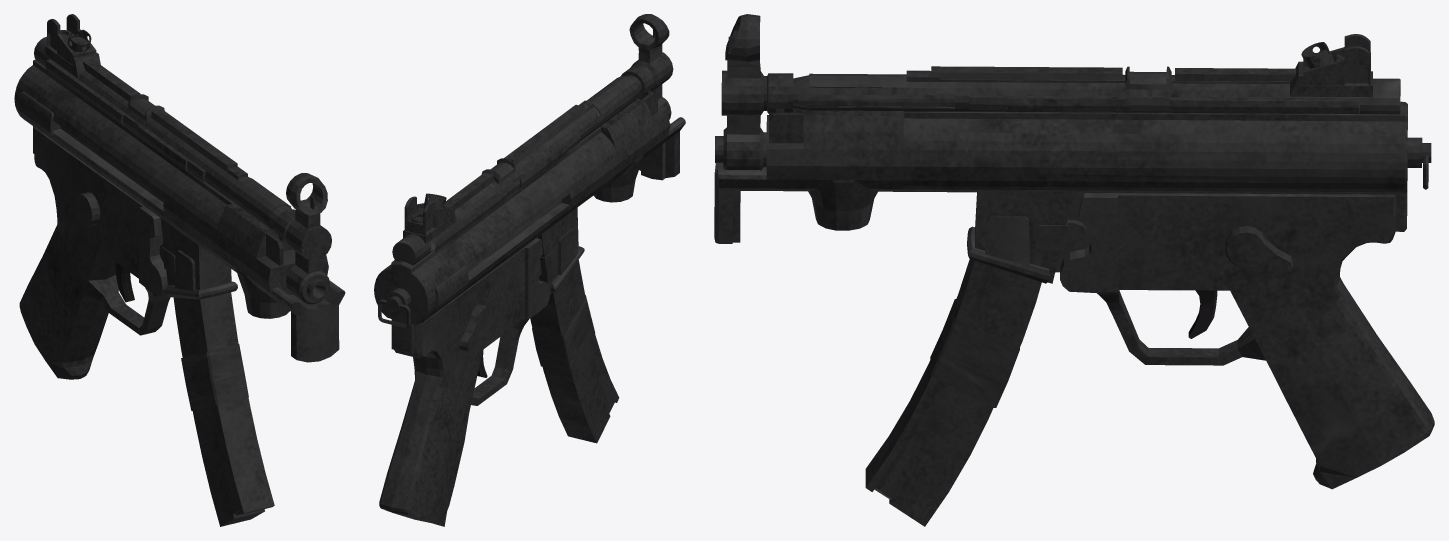
The picture shows the model from 3 angles, left to right: view 1: azimuth 30°, elevation 25°; view 2: azimuth 150°, elevation 25°; view 3: azimuth 270°, elevation 25°; orthographic projection. The views are drawn at different scales.
Visible parts, largest first — view 1: Trigger, Trigger.001; view 2: Trigger, Trigger.001; view 3: Trigger, Trigger.001.
Boxes of the visible parts, x1,y1,x2,y2 form: Trigger: (14, 14, 345, 379); Trigger.001: (173, 292, 274, 526); Trigger: (374, 14, 685, 526); Trigger.001: (530, 260, 619, 443); Trigger: (714, 14, 1434, 489); Trigger.001: (865, 259, 1041, 526).
Size of the model in its own units: 0.6225 by 3.81 by 4.97.
